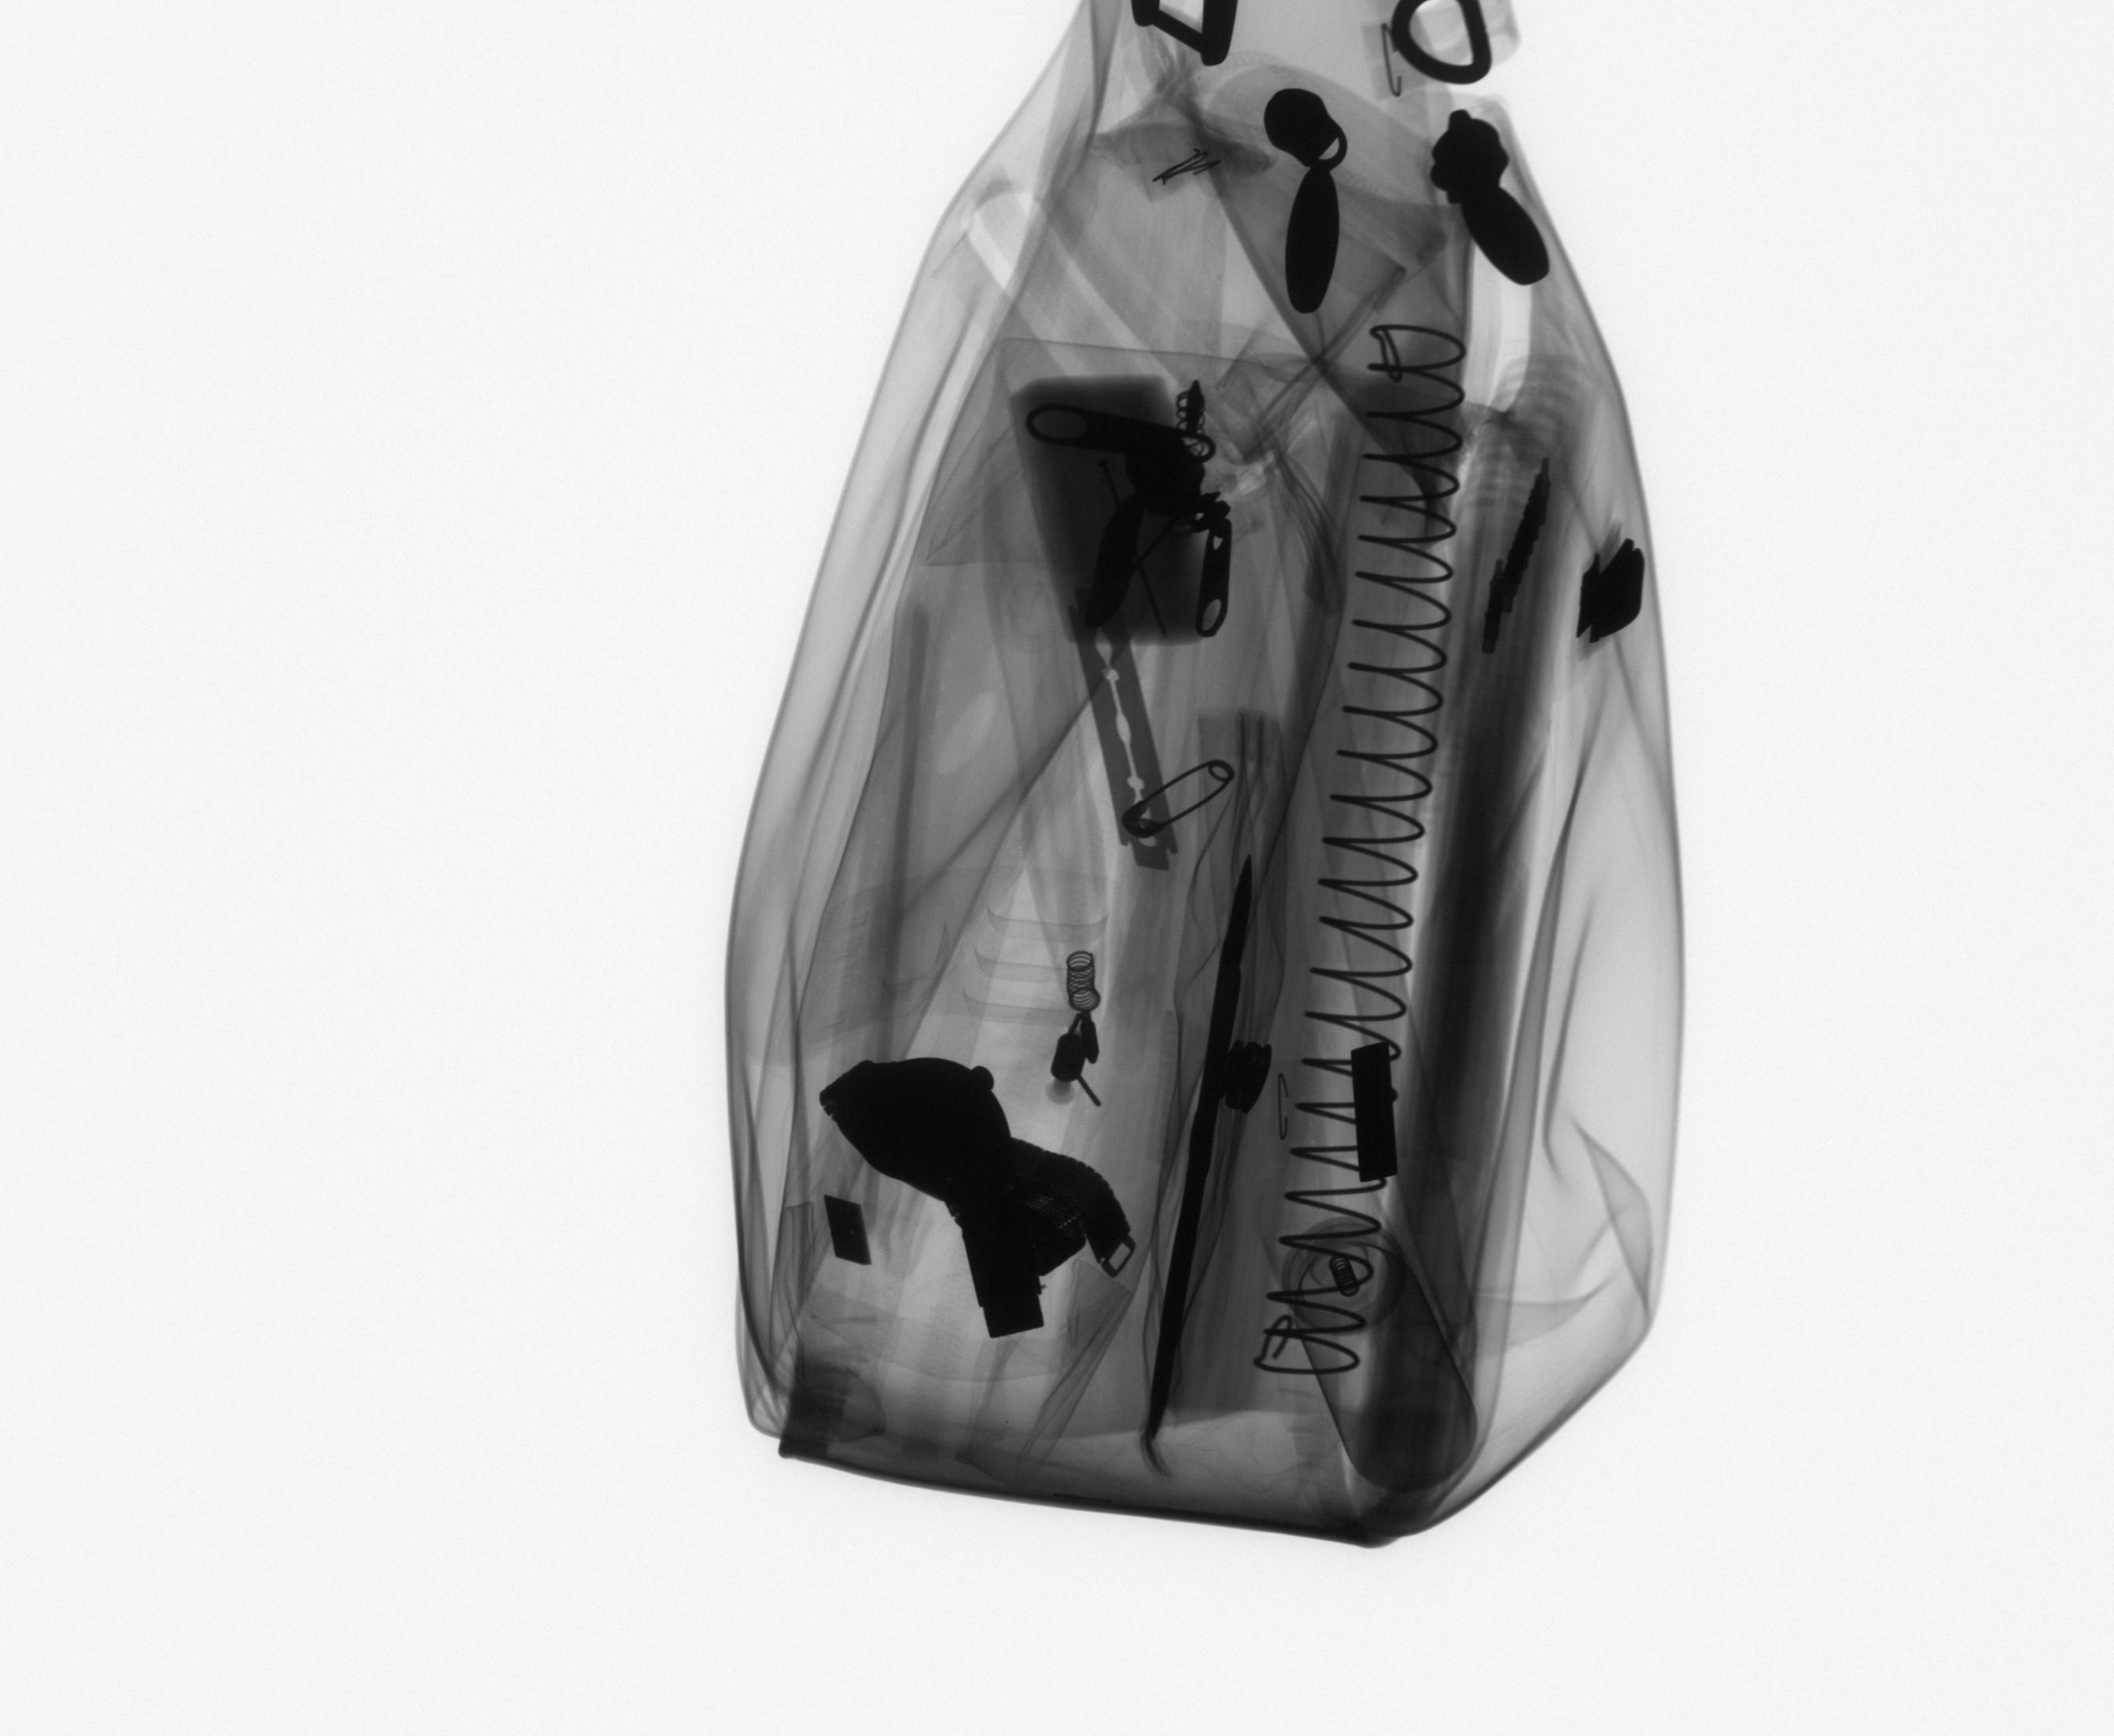RazorBlade: (1055, 578, 1199, 880)
